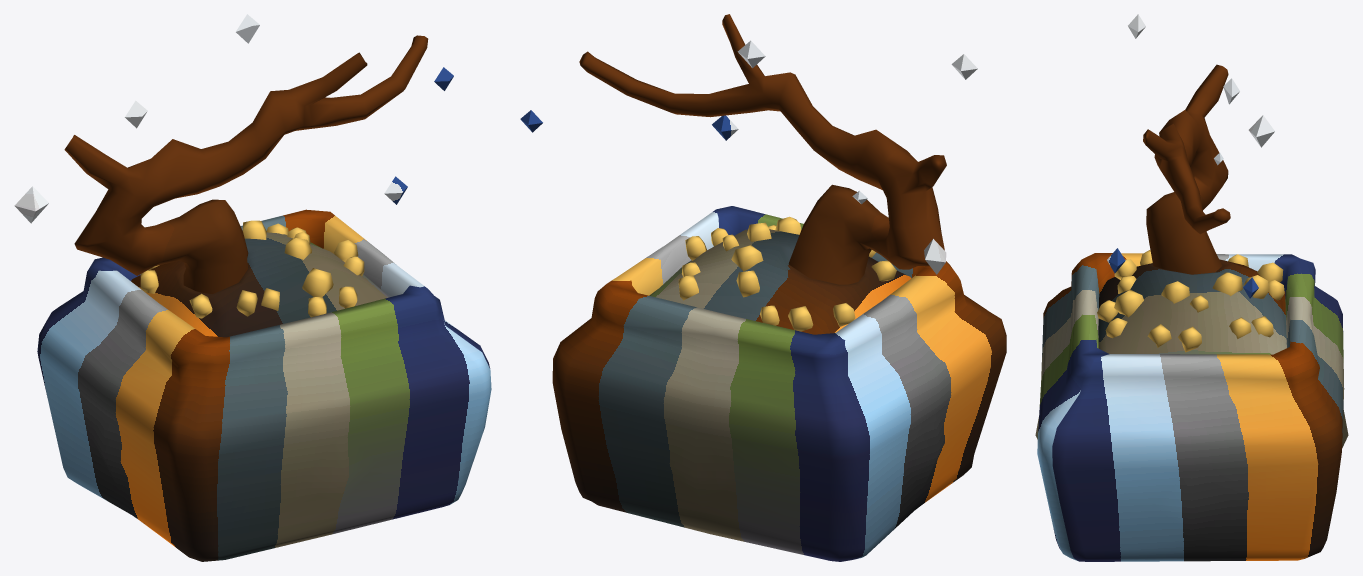
File: Prop_FortunePlant.glb
3 renders of one model, left to right at view 1: azimuth 30°, elevation 25°; view 2: azimuth 150°, elevation 25°; view 3: azimuth 270°, elevation 25°, orthographic. The views are drawn at different scales.
Visible parts, largest first — view 1: Prop_FortunePlant; view 2: Prop_FortunePlant; view 3: Prop_FortunePlant.
Part boxes in pixels (x1,y1,x2,y2): Prop_FortunePlant: (14, 14, 491, 561); Prop_FortunePlant: (520, 14, 1006, 561); Prop_FortunePlant: (1035, 14, 1348, 561).
Size of the model in its own units: 4.59 by 4.68 by 3.09.
Materials: 1 (1 with a texture image).
